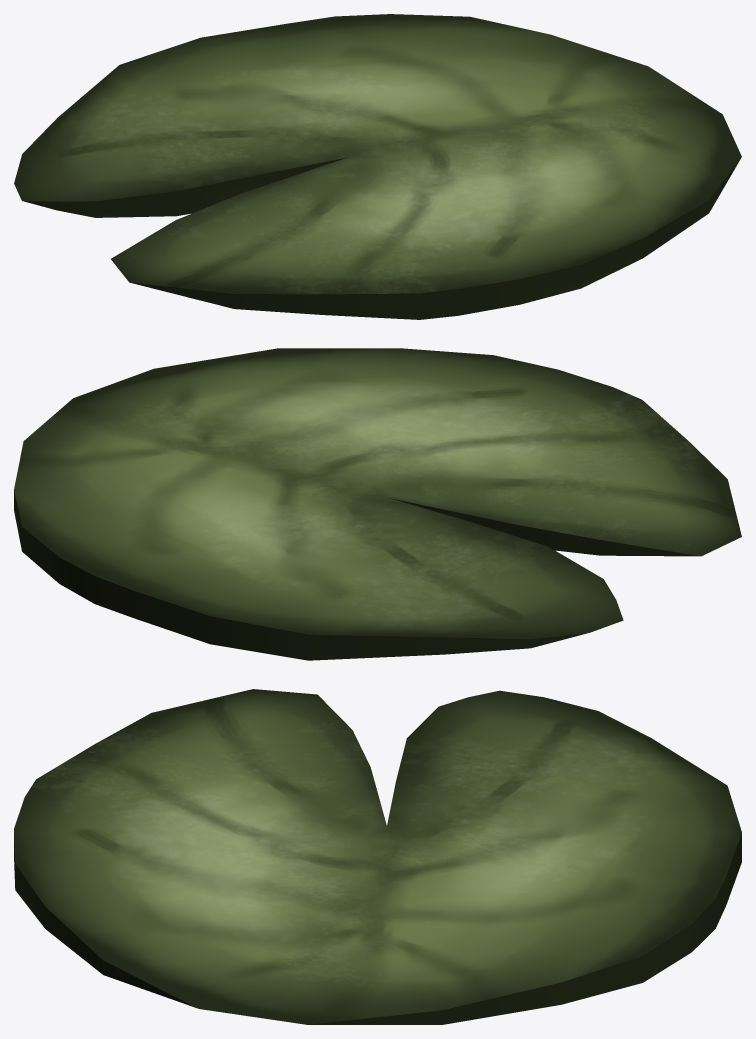
The model's file is Lilypad.fbx.
3 renders of one model, top to bottom at view 1: azimuth 30°, elevation 25°; view 2: azimuth 150°, elevation 25°; view 3: azimuth 270°, elevation 25°, orthographic. The views are drawn at different scales.
Parts seen in each view (by area): view 1: Cube; view 2: Cube; view 3: Cube.
Part boxes in pixels (x1,y1,x2,y2): Cube: (14,14,741,319); Cube: (14,348,741,660); Cube: (14,689,741,1024).
Size of the model in its own units: 204 by 8.49 by 187.
Materials: 1 (1 with a texture image).
